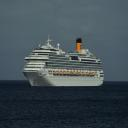cruises: (20, 33, 107, 90)
